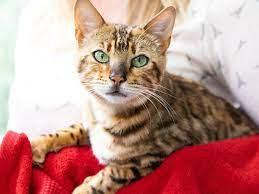Cat: (74, 1, 176, 107)
